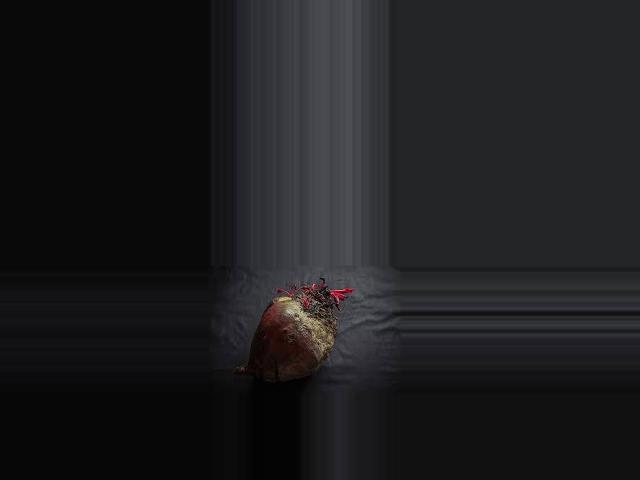beet: (232, 277, 354, 381)
